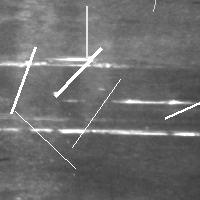scratches: (1, 118, 198, 142), (10, 106, 80, 173), (67, 74, 125, 152), (50, 43, 106, 101), (6, 42, 40, 118), (1, 54, 152, 71), (160, 79, 200, 123), (112, 95, 197, 107), (82, 1, 92, 63), (148, 0, 170, 16)
